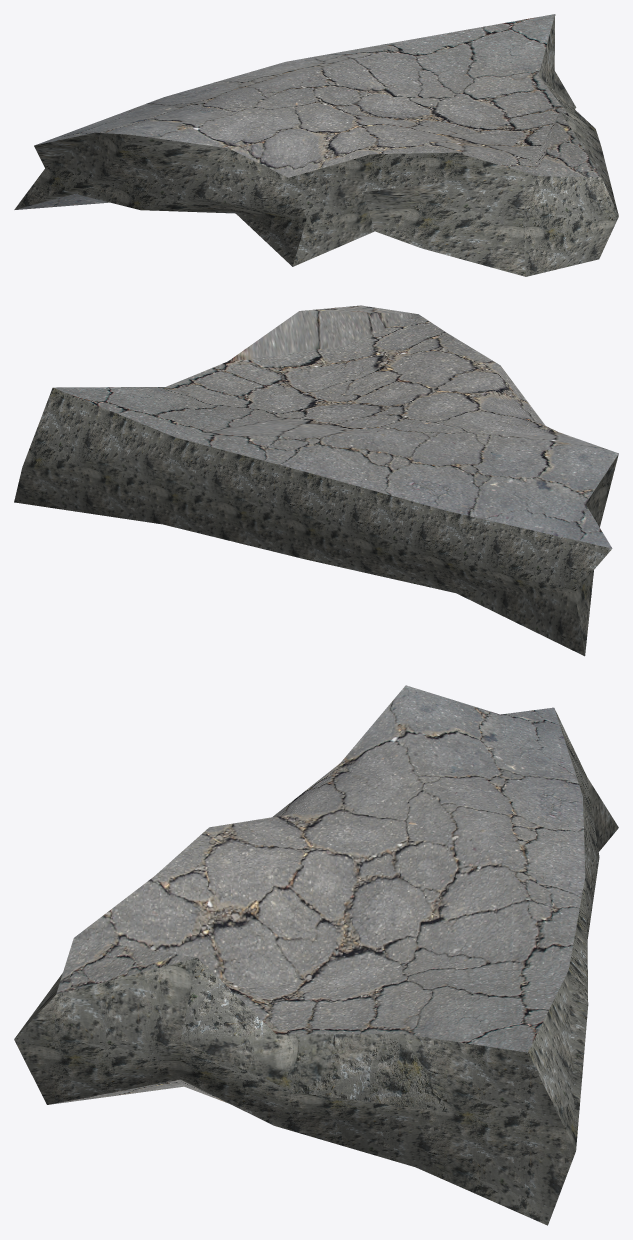
File: ConChunk3.FBX
3 renders of one model, top to bottom at view 1: azimuth 30°, elevation 25°; view 2: azimuth 150°, elevation 25°; view 3: azimuth 270°, elevation 25°, orthographic. The views are drawn at different scales.
Parts seen in each view (by area): view 1: Box01; view 2: Box01; view 3: Box01.
Part boxes in pixels (bbox=[...]): Box01: bbox=[14, 14, 618, 276]; Box01: bbox=[14, 305, 618, 656]; Box01: bbox=[14, 685, 618, 1225].
Size of the model in its own units: 1.43 by 0.3484 by 0.9534.
Materials: 2 (2 with a texture image).
